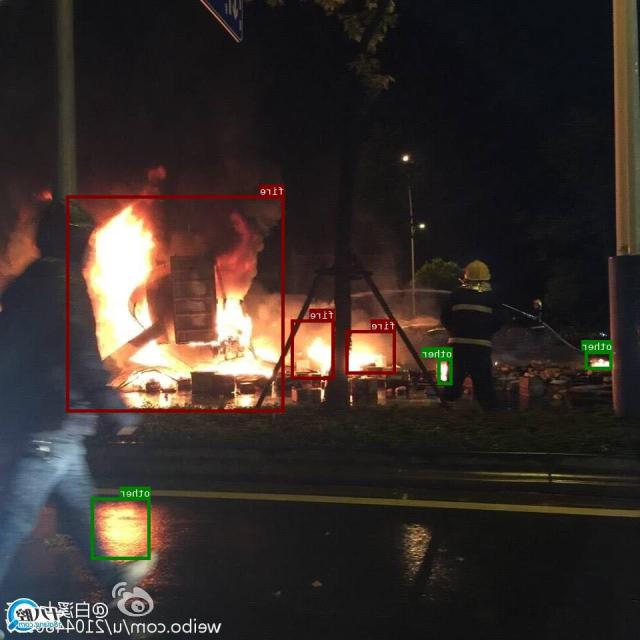fire: (67, 195, 285, 412), (292, 319, 336, 379), (346, 330, 396, 374)
other: (92, 497, 151, 559), (586, 350, 613, 369), (439, 358, 453, 384)
